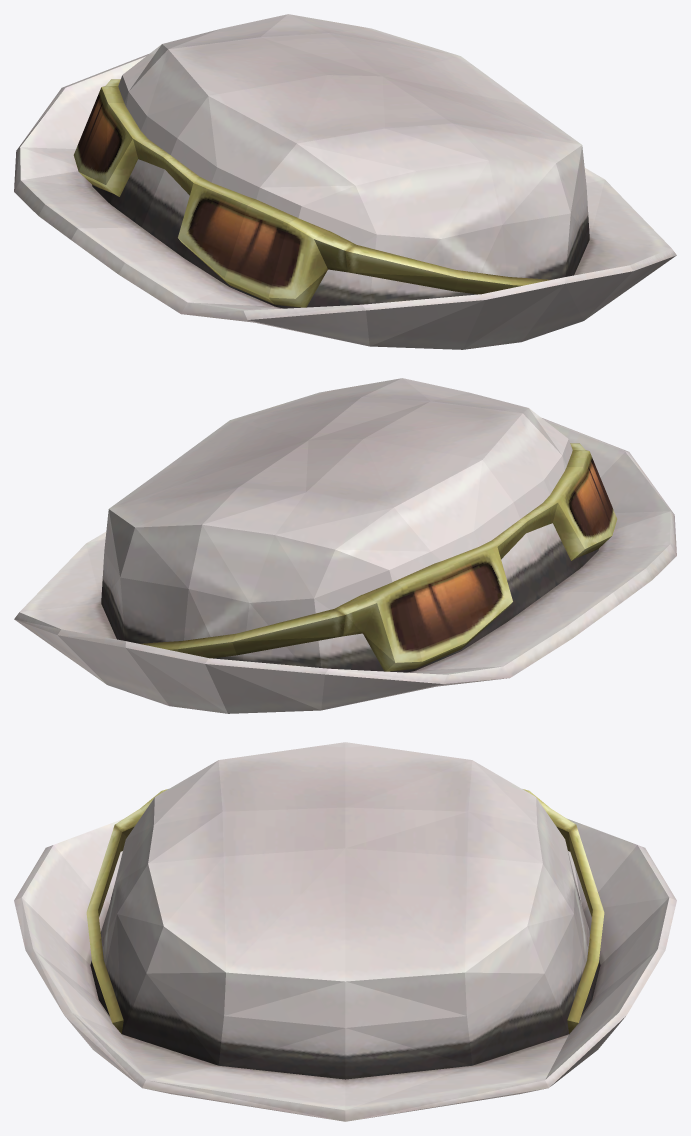
Rendered from Whale_superStarHat.obj.
3 renders of one model, top to bottom at view 1: azimuth 30°, elevation 25°; view 2: azimuth 150°, elevation 25°; view 3: azimuth 270°, elevation 25°, orthographic.
Parts seen in each view (by area): view 1: Whale_superStarHat_tri; view 2: Whale_superStarHat_tri; view 3: Whale_superStarHat_tri.
Boxes of the visible parts, x1,y1,x2,y2 form: Whale_superStarHat_tri: (14,14,676,349); Whale_superStarHat_tri: (14,378,676,713); Whale_superStarHat_tri: (14,742,676,1121).
Size of the model in its own units: 1.63 by 0.6056 by 1.76.
1 material, 1 textured.
